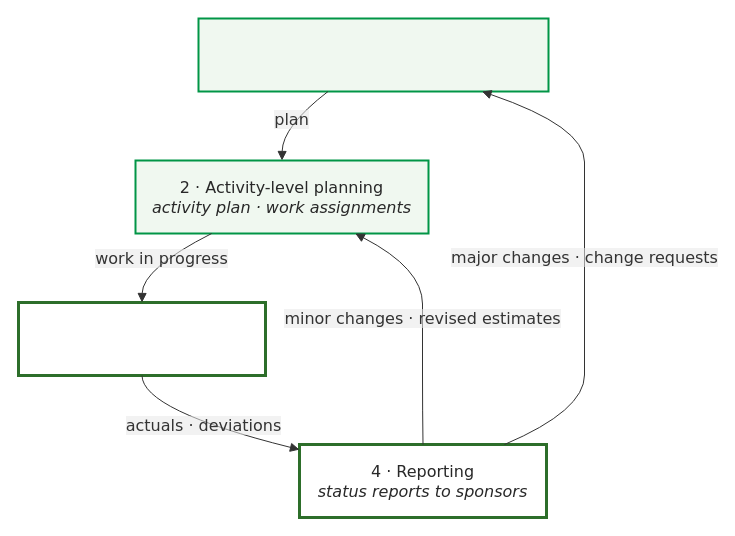
Some shapes in this 735 by 536 pixel diagram are drawn without their labels. Each missing label, with the centre of its shape:
"1 · Commitment-level planning budget · WBS · milestone plan · staffing" belongs at (x=373, y=54).
"3 · Tracking where is the project now?" belongs at (x=141, y=338).
